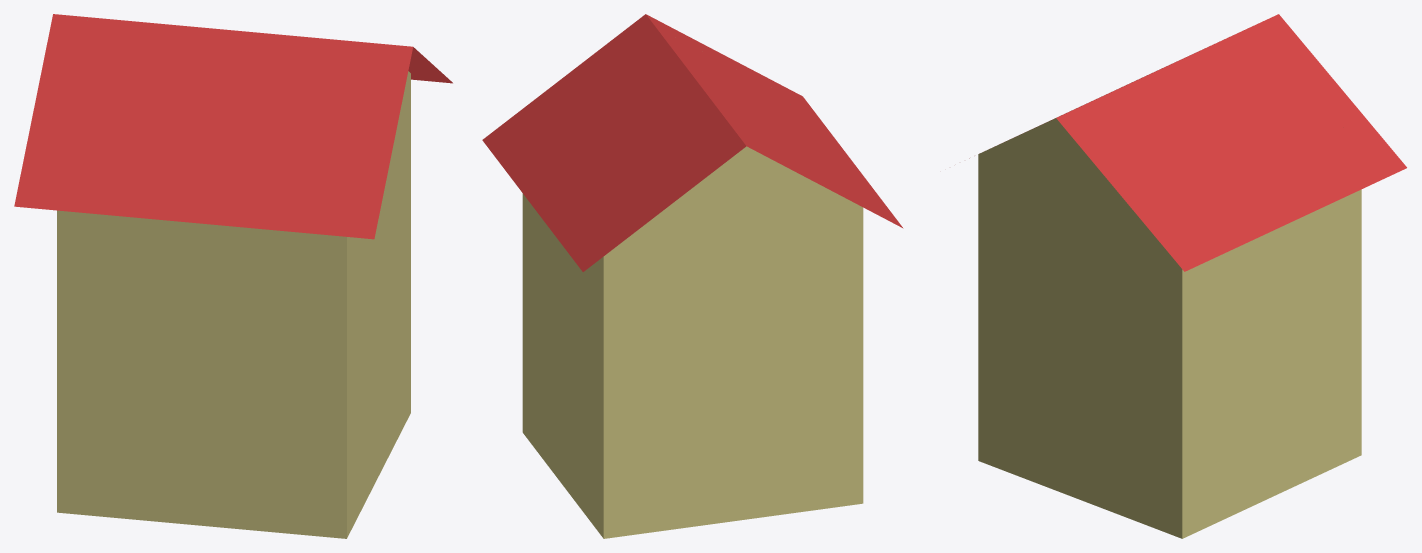
3 renders of one model, left to right at view 1: azimuth 30°, elevation 25°; view 2: azimuth 150°, elevation 25°; view 3: azimuth 270°, elevation 25°, orthographic. The views are drawn at different scales.
Parts seen in each view (by area): view 1: group_5, group_3, group_4; view 2: group_5, group_3, group_4; view 3: group_5, group_3, group_4.
Boxes of the visible parts, x1,y1,x2,y2 form: group_5: [57, 71, 410, 538]; group_3: [14, 14, 451, 238]; group_4: [16, 14, 452, 239]; group_5: [522, 146, 863, 538]; group_3: [482, 14, 903, 235]; group_4: [482, 14, 902, 271]; group_5: [978, 118, 1361, 538]; group_3: [999, 14, 1361, 271]; group_4: [969, 14, 1406, 271].
Bounding box in the file's own units: 14.65 × 14.67 × 13.33.
